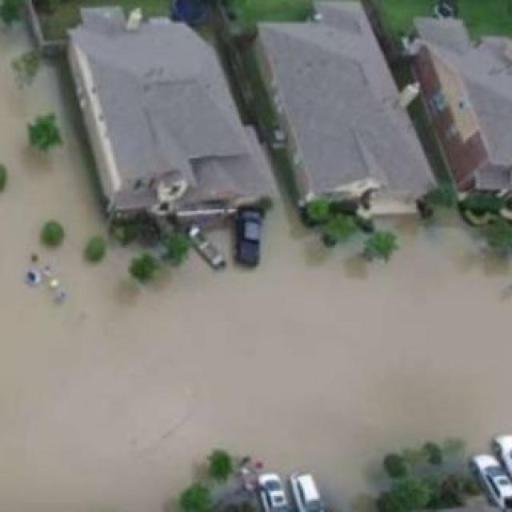flood: (0, 29, 512, 512)
house: (50, 0, 279, 230), (262, 6, 436, 218), (410, 26, 503, 220)
